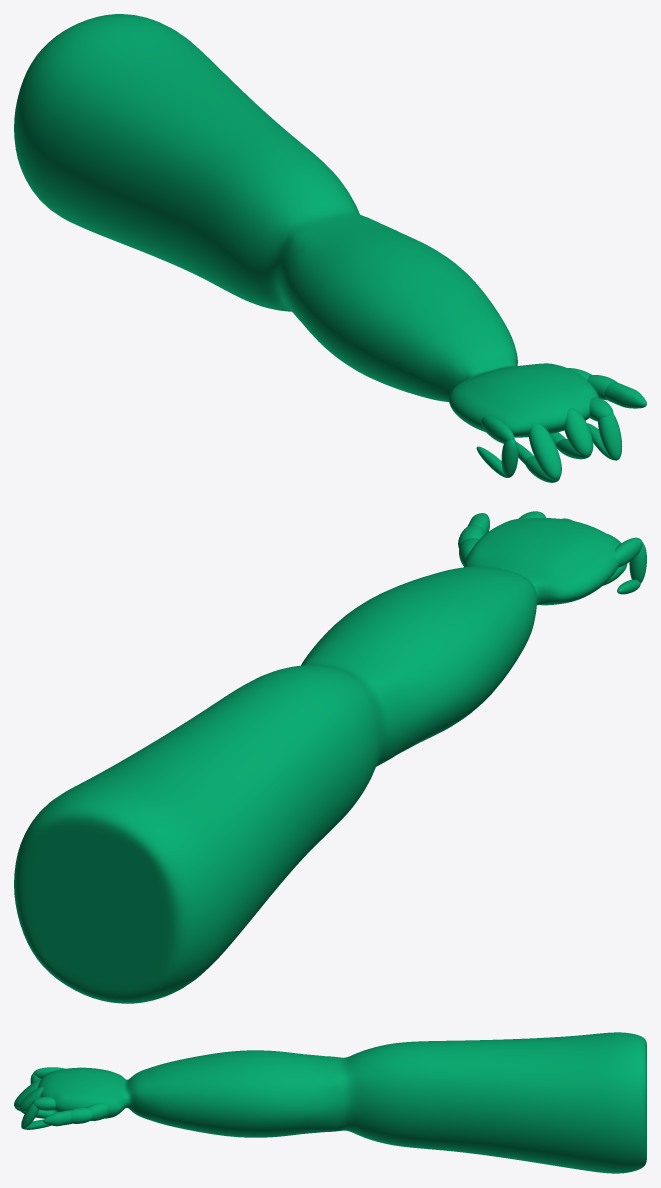
The model's file is playerhand.fbx.
3 views of the same model, one above another, from view 1: azimuth 30°, elevation 25°; view 2: azimuth 150°, elevation 25°; view 3: azimuth 270°, elevation 25° (orthographic). The views are drawn at different scales.
Parts seen in each view (by area): view 1: playerhand; view 2: playerhand; view 3: playerhand.
Boxes of the visible parts, x1=… form: playerhand: x1=14, y1=14, x2=646, y2=482; playerhand: x1=14, y1=511, x2=646, y2=1003; playerhand: x1=14, y1=1032, x2=646, y2=1173.
Bounding box in the file's own units: 12.61 × 12.37 × 56.37.
